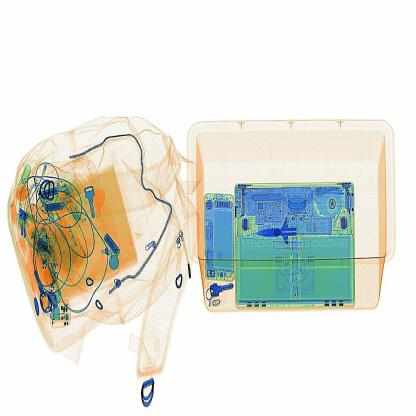gun: (247, 202, 310, 256)
